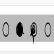correct: (14, 15, 24, 42)
not correct: (28, 14, 38, 44)
